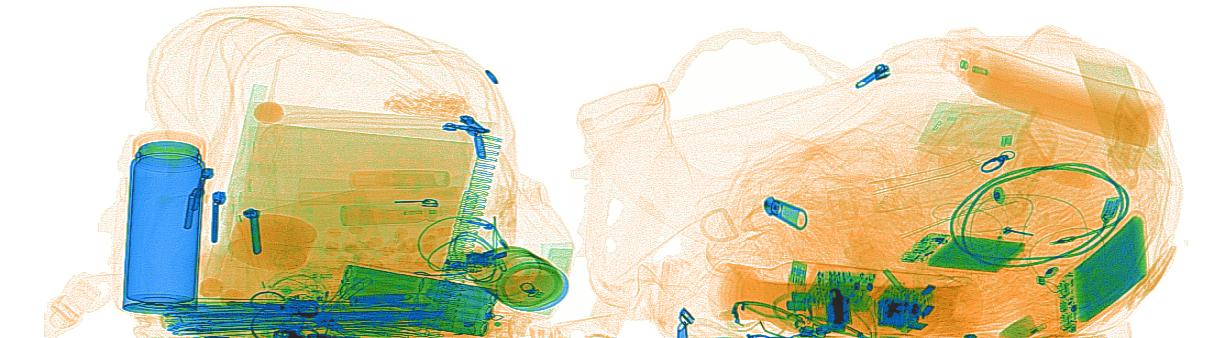battery: (337, 262, 502, 337)
plasticBottleWithaNozzle: (933, 38, 1166, 147)
